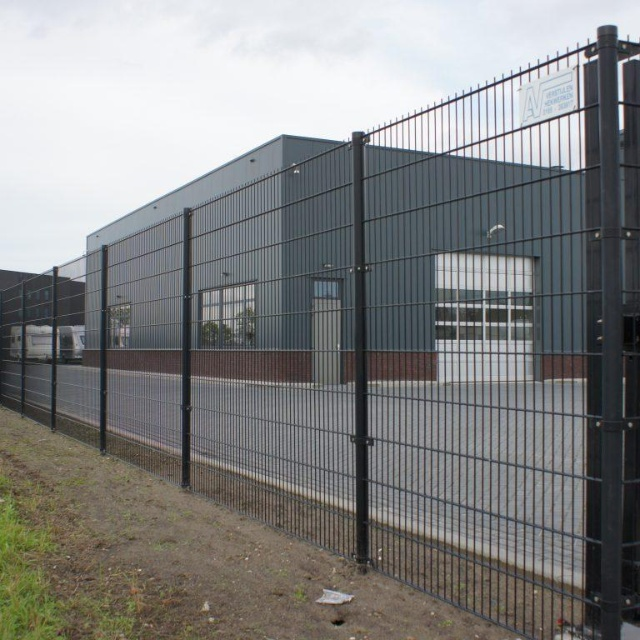obstacle: (0, 209, 640, 512)
